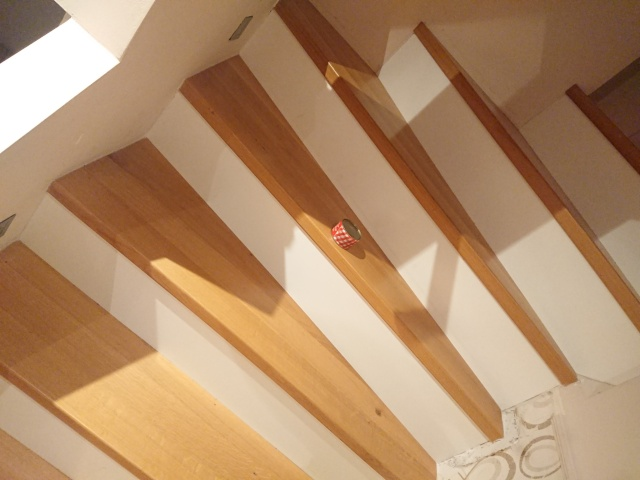Podravka Luncheon Meat 150g: (329, 217, 363, 253)
